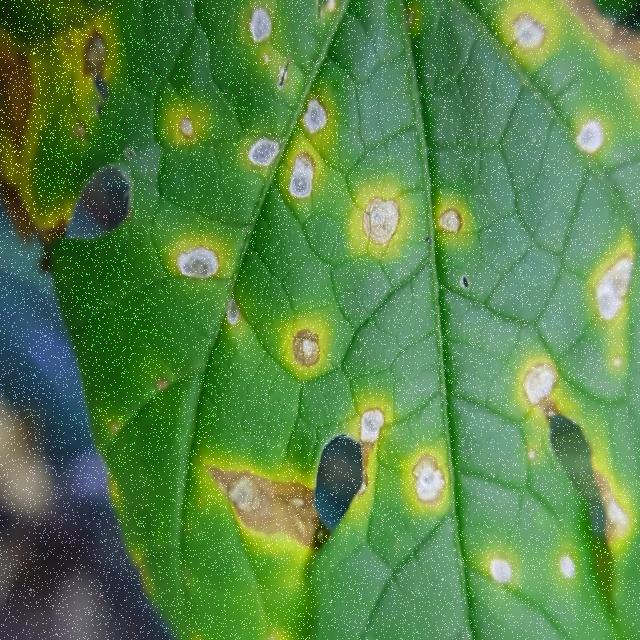leaf_spot: (173, 20, 486, 379)
shot_hole: (275, 391, 405, 640)
